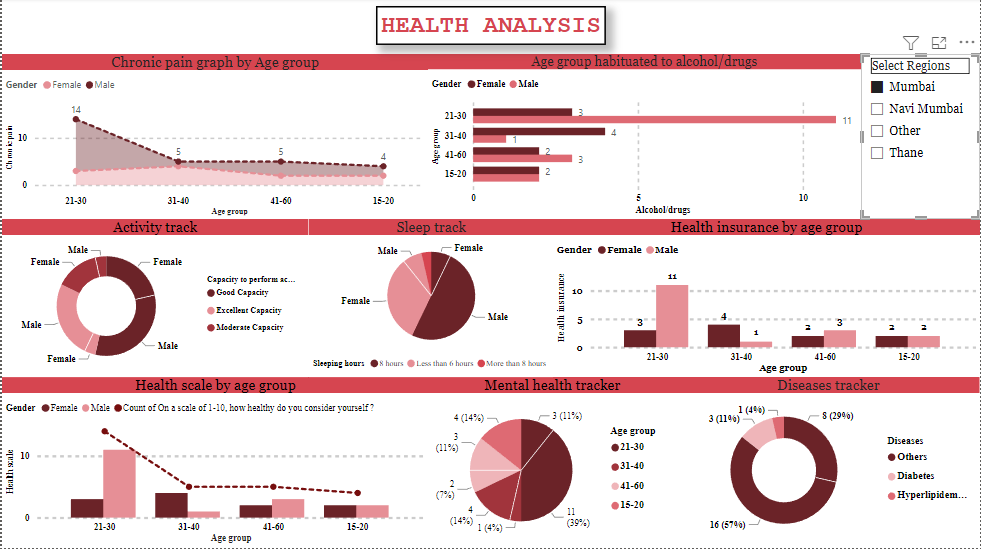

The dashboard page shown, as its layout file describes it:
{"tool":"powerbi","page":{"name":"Page 1","canvas":[1280,720],"ordinal":0},"visuals":[{"type":"clusteredColumnChart","title":"Health insurance by age group","fields":{"Series":["Health Analysis.Gender"],"Category":["Health Analysis.Age group"],"Y":["CountNonNull(Health Analysis.Do you have a health insurance ? )"]},"box":[721.3,289.5,558.7,206.6],"z":0},{"type":"slicer","fields":{"Values":["Health Analysis.Select your region of residence"]},"box":[1124.6,73.9,155.1,215.9],"z":1000},{"type":"lineClusteredColumnComboChart","title":"Health scale by age group","fields":{"Category":["Health Analysis.Age group"],"Series":["Health Analysis.Gender"],"Y":["CountNonNull(Health Analysis.On a scale of 1-10, how healthy do you consider yourself ?)"],"Y2":["CountNonNull(Health Analysis.On a scale of 1-10, how healthy do you consider yourself ?)"]},"box":[0,496.1,558.7,223.5],"z":2000},{"type":"stackedAreaChart","title":"Chronic pain graph by Age group ","fields":{"Category":["Health Analysis.Age group"],"Y":["CountNonNull(Health Analysis.Do you experience any chronic pain ?)"],"Series":["Health Analysis.Gender"]},"box":[0,73.4,558.3,216.1],"z":3000},{"type":"donutChart","title":"Activity track","fields":{"Category":["Health Analysis.In your opinion, at what capacity can you perform everyday activities ? "],"Series":["Health Analysis.Gender"],"Y":["CountNonNull(Health Analysis.Gender)"]},"box":[0,289.5,401.3,206.6],"z":4000},{"type":"clusteredBarChart","title":"Age group  habituated to alcohol/drugs","fields":{"Y":["CountNonNull(Health Analysis.Are you habituated to alcohol/drugs ?)"],"Series":["Health Analysis.Gender"],"Category":["Health Analysis.Age group"]},"box":[558.3,73.4,566.6,216.1],"z":5000},{"type":"pieChart","title":"Mental health tracker","fields":{"Category":["Health Analysis.Age group"],"Y":["CountNonNull(Health Analysis.Does your mental well being has an affect on your physical health ?)"],"Series":["Health Analysis.Does your mental well being has an affect on your physical health ?"]},"box":[558.3,495.9,325.5,223],"z":6000},{"type":"donutChart","title":"Diseases tracker","fields":{"Series":["Health Analysis.Gender"],"Category":["Health Analysis.Do you have any hereditary conditions/ diseases ?"],"Y":["CountNonNull(Health Analysis.Do you have any hereditary conditions/ diseases ?)"]},"box":[883.8,495.9,396.2,223],"z":7000},{"type":"pieChart","title":"Sleep track","fields":{"Category":["Health Analysis.How much hours of sleep do you get on a daily basis ? "],"Y":["CountNonNull(Health Analysis.Gender)"],"Series":["Health Analysis.Gender"]},"box":[401.3,289.5,320,206.6],"z":8000},{"type":"shape","box":[489,11.1,300.6,51.3],"z":9000}]}

Visuals, with their boxes in screenshot pixels (x1, y1, x2, y2), scaled from the page's 1280x720 canvas onto the 981x549 screenshot:
"Health insurance by age group" clusteredColumnChart: [553, 221, 980, 378]
slicer - Health Analysis.Select your region of residence: [862, 56, 980, 221]
"Health scale by age group" lineClusteredColumnComboChart: [0, 378, 428, 548]
"Chronic pain graph by Age group " stackedAreaChart: [0, 56, 428, 221]
"Activity track" donutChart: [0, 221, 308, 378]
"Age group  habituated to alcohol/drugs" clusteredBarChart: [428, 56, 862, 221]
"Mental health tracker" pieChart: [428, 378, 677, 548]
"Diseases tracker" donutChart: [677, 378, 980, 548]
"Sleep track" pieChart: [308, 221, 553, 378]
shape: [375, 8, 605, 48]
